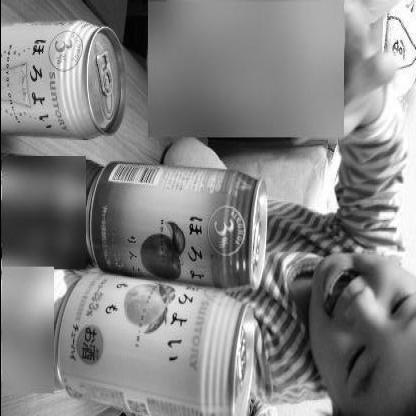alumunium_can: (58, 270, 252, 414), (89, 160, 266, 290), (1, 19, 125, 141)
